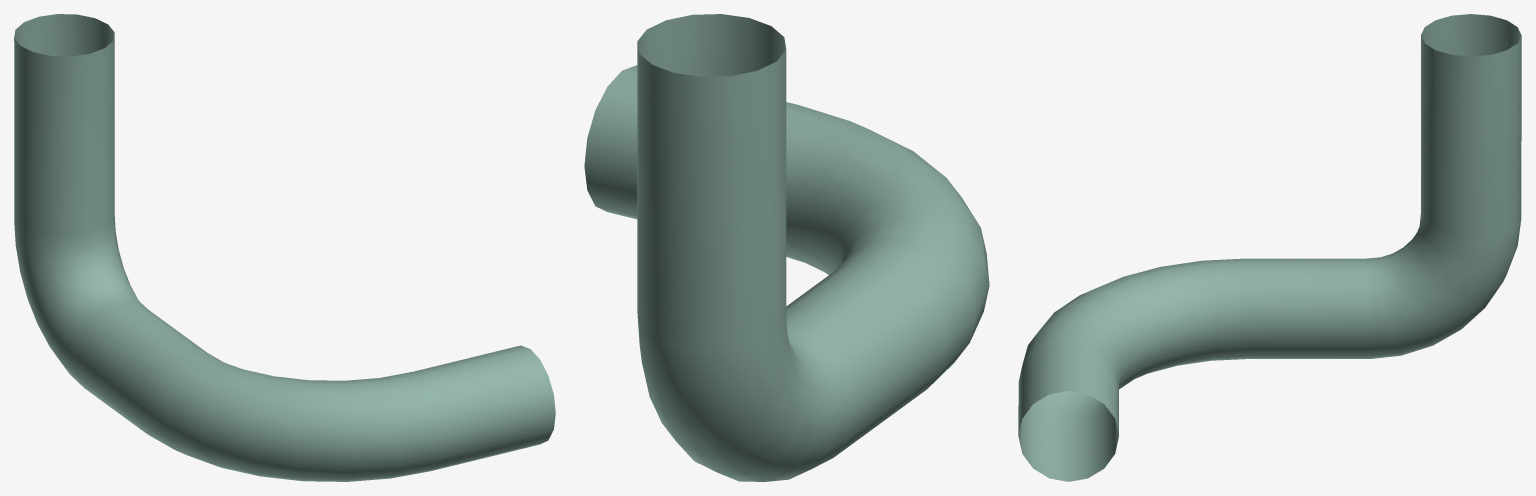
Rendered from PipeLarge_BentSpecial_04.fbx.
3 views of the same model, side by side, from view 1: azimuth 30°, elevation 25°; view 2: azimuth 150°, elevation 25°; view 3: azimuth 270°, elevation 25° (orthographic). The views are drawn at different scales.
Visible parts, largest first — view 1: PipeLarge_BentSpecial_04.001; view 2: PipeLarge_BentSpecial_04.001; view 3: PipeLarge_BentSpecial_04.001.
Boxes of the visible parts, bbox=[...] form: PipeLarge_BentSpecial_04.001: bbox=[14, 14, 555, 481]; PipeLarge_BentSpecial_04.001: bbox=[584, 14, 989, 481]; PipeLarge_BentSpecial_04.001: bbox=[1018, 14, 1521, 481].
Size of the model in its own units: 0.7 by 0.7 by 1.
